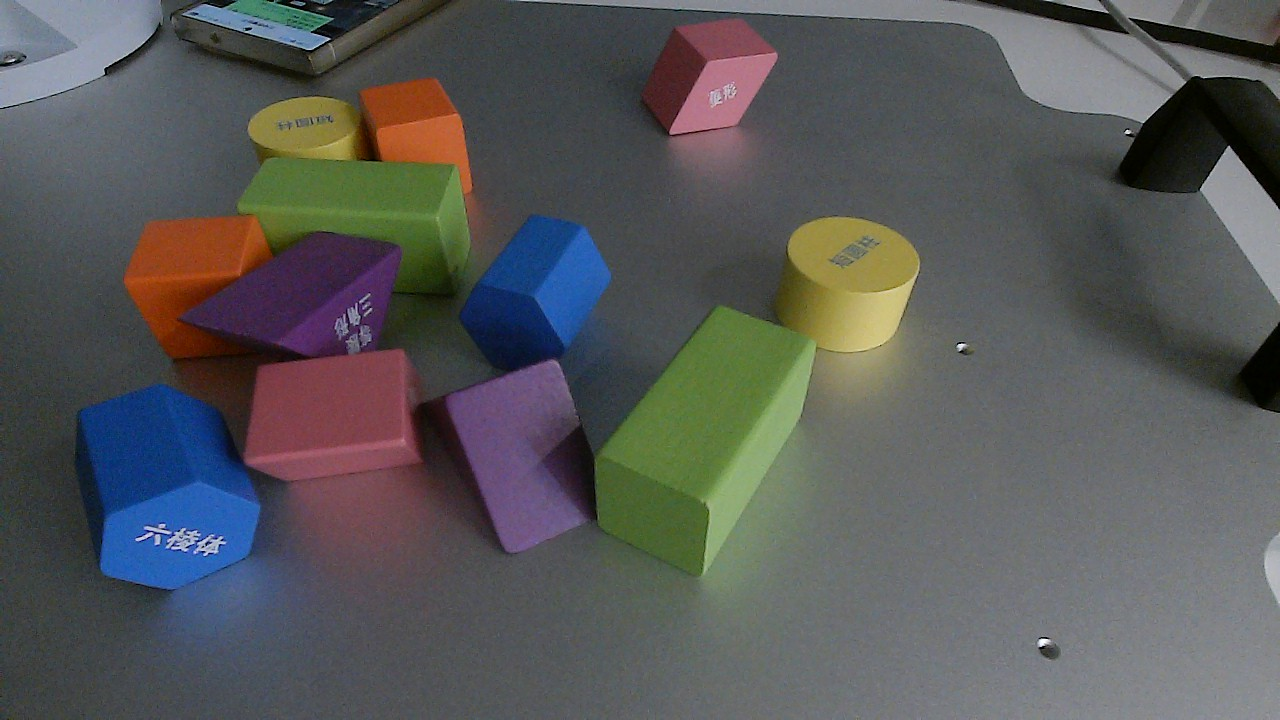circle: (767, 214, 921, 354), (243, 88, 376, 181)
diamond: (245, 349, 430, 489), (640, 12, 781, 142)
hexagon: (70, 384, 265, 590), (460, 213, 611, 377)
rectangle: (589, 303, 817, 579), (238, 153, 483, 300)
square: (121, 211, 285, 364), (360, 71, 479, 196)
triangle: (175, 228, 408, 364), (437, 360, 597, 556)
